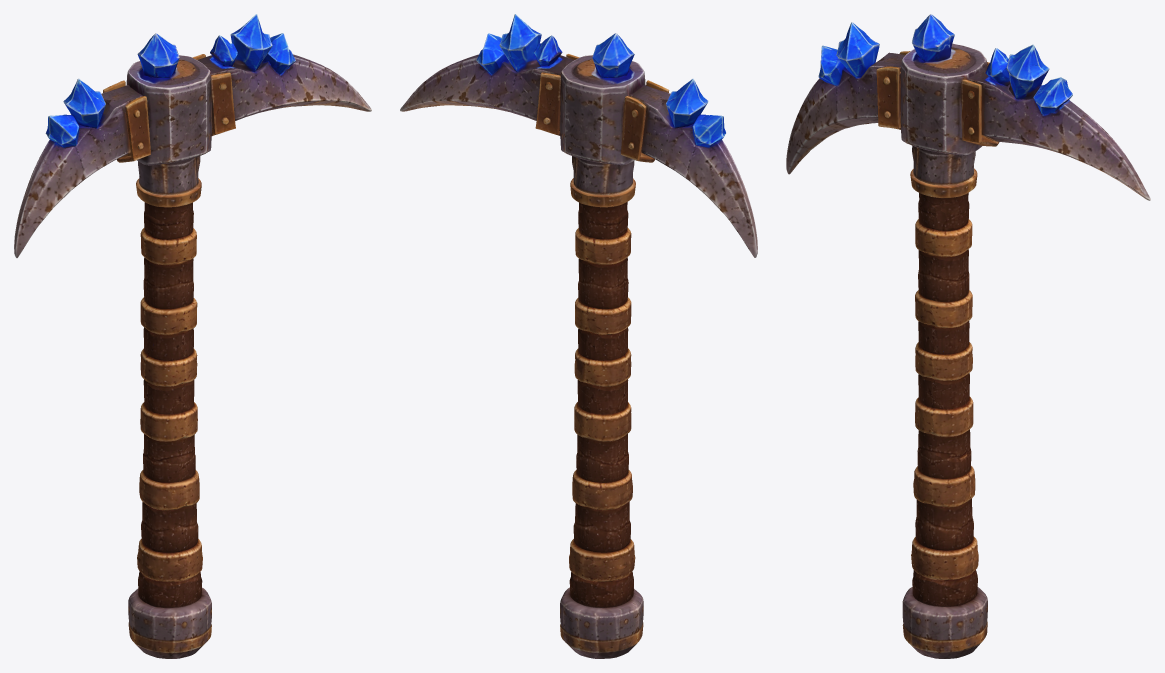
Rendered from pickaxe.glb.
The picture shows the model from 3 angles, left to right: view 1: azimuth 30°, elevation 25°; view 2: azimuth 150°, elevation 25°; view 3: azimuth 330°, elevation 25°; orthographic projection.
Visible parts, largest first — view 1: Mesh_0; view 2: Mesh_0; view 3: Mesh_0.
Part boxes in pixels (left/top/right/bottom): Mesh_0: left=14, top=14, right=371, bottom=658; Mesh_0: left=400, top=14, right=757, bottom=658; Mesh_0: left=786, top=14, right=1150, bottom=658.
Bounding box in the file's own units: 1.15 × 1.9 × 0.2289.
1 material, 1 textured.
